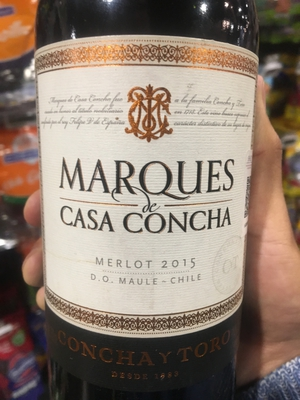marques de casa concha merlot: (33, 23, 268, 375)
